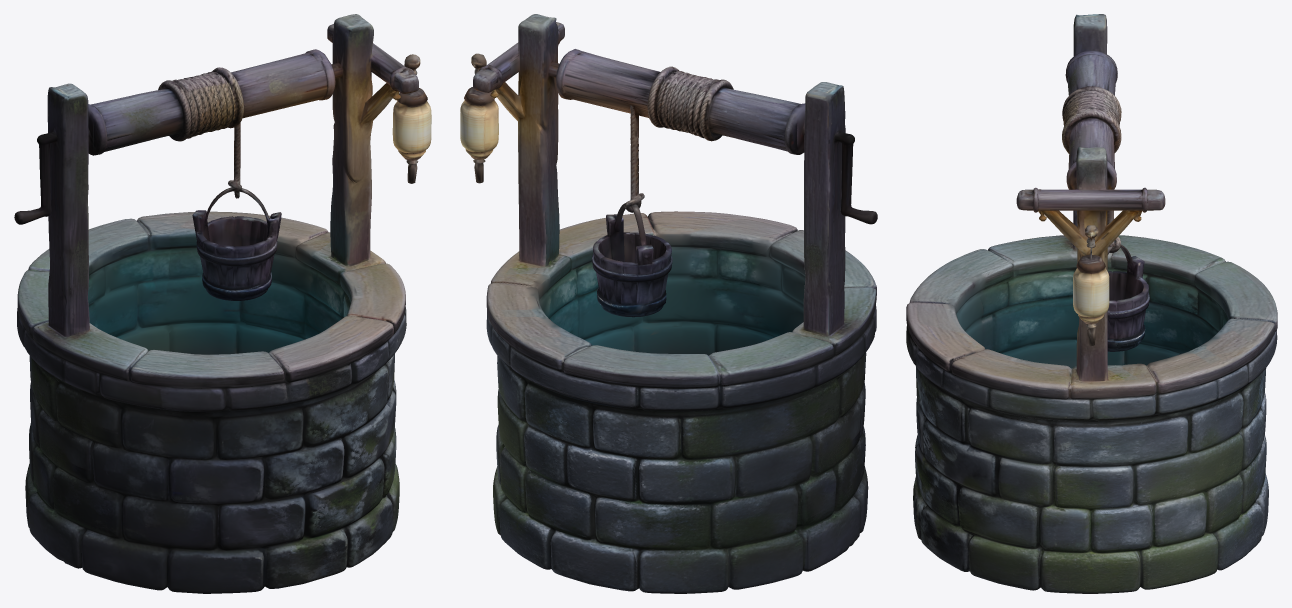
The model's file is well.glb.
3 views of the same model, side by side, from view 1: azimuth 30°, elevation 25°; view 2: azimuth 150°, elevation 25°; view 3: azimuth 270°, elevation 25° (orthographic). The views are drawn at different scales.
Parts seen in each view (by area): view 1: node_0; view 2: node_0; view 3: node_0.
Part boxes in pixels (x1,y1,x2,y2): node_0: [14, 14, 431, 593]; node_0: [460, 14, 877, 593]; node_0: [906, 14, 1277, 593].
Bounding box in the file's own units: 0.8843 × 0.9484 × 0.7314.
1 material, 1 textured.
